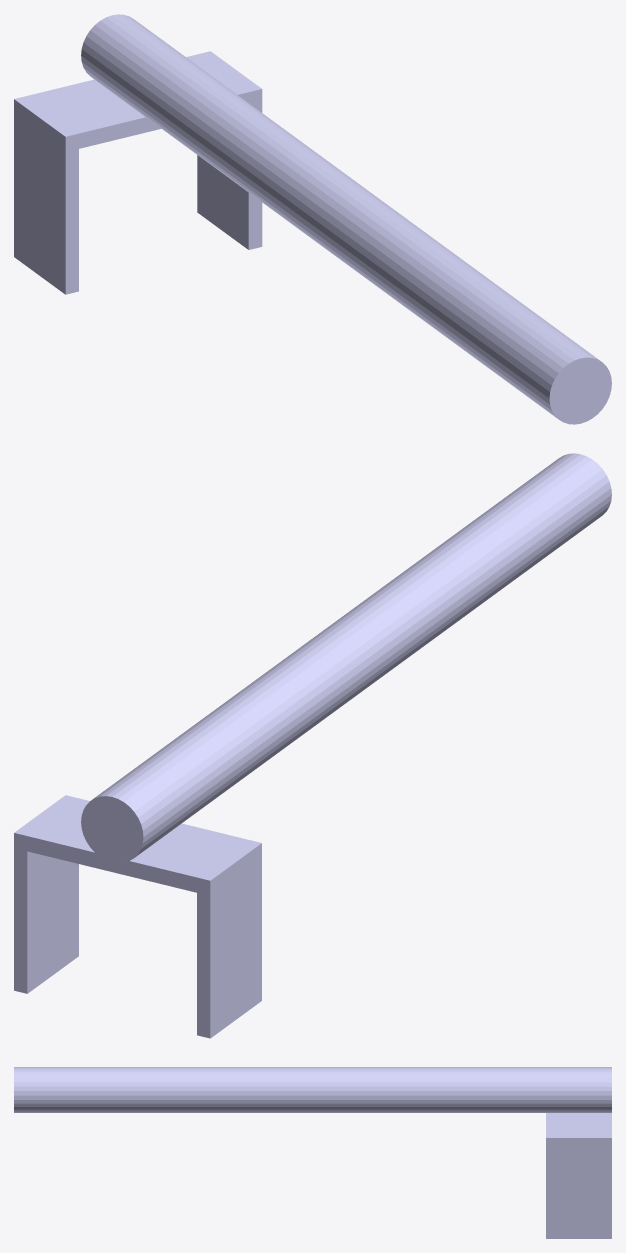
Rendered from dbAlpha_URDF_Leg_Abdomen_RearLeft_Link3__91__.dae.
3 renders of one model, top to bottom at view 1: azimuth 30°, elevation 25°; view 2: azimuth 150°, elevation 25°; view 3: azimuth 270°, elevation 25°, orthographic. The views are drawn at different scales.
Parts seen in each view (by area): view 1: Node_0x7f7afcf32ce0 (×4); view 2: Node_0x7f7afcf32ce0 (×4); view 3: Node_0x7f7afcf32ce0 (×3).
Boxes of the visible parts, bbox=[...] form: Node_0x7f7afcf32ce0 (×4): bbox=[14, 14, 611, 424]; Node_0x7f7afcf32ce0 (×4): bbox=[14, 453, 611, 1038]; Node_0x7f7afcf32ce0 (×3): bbox=[14, 1067, 611, 1238].
Size of the model in its own units: 0.044 by 0.0466 by 0.1817.
